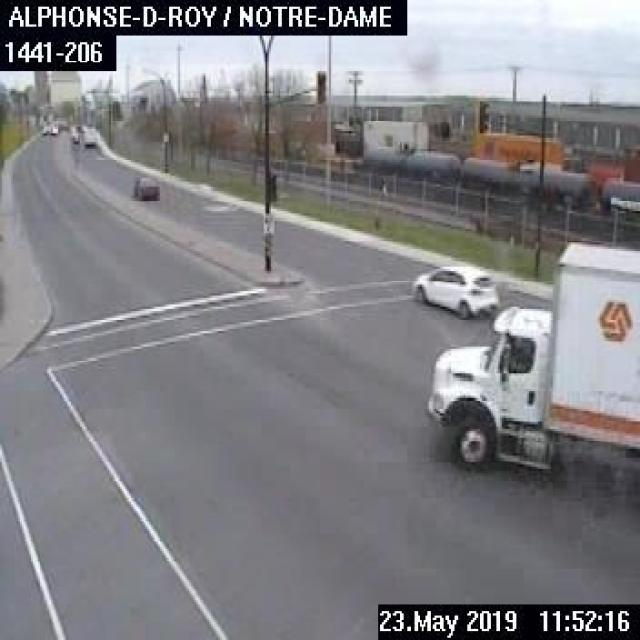vehicle: (425, 239, 638, 480), (412, 261, 500, 320), (131, 171, 160, 198), (80, 125, 95, 146), (48, 120, 58, 136)
